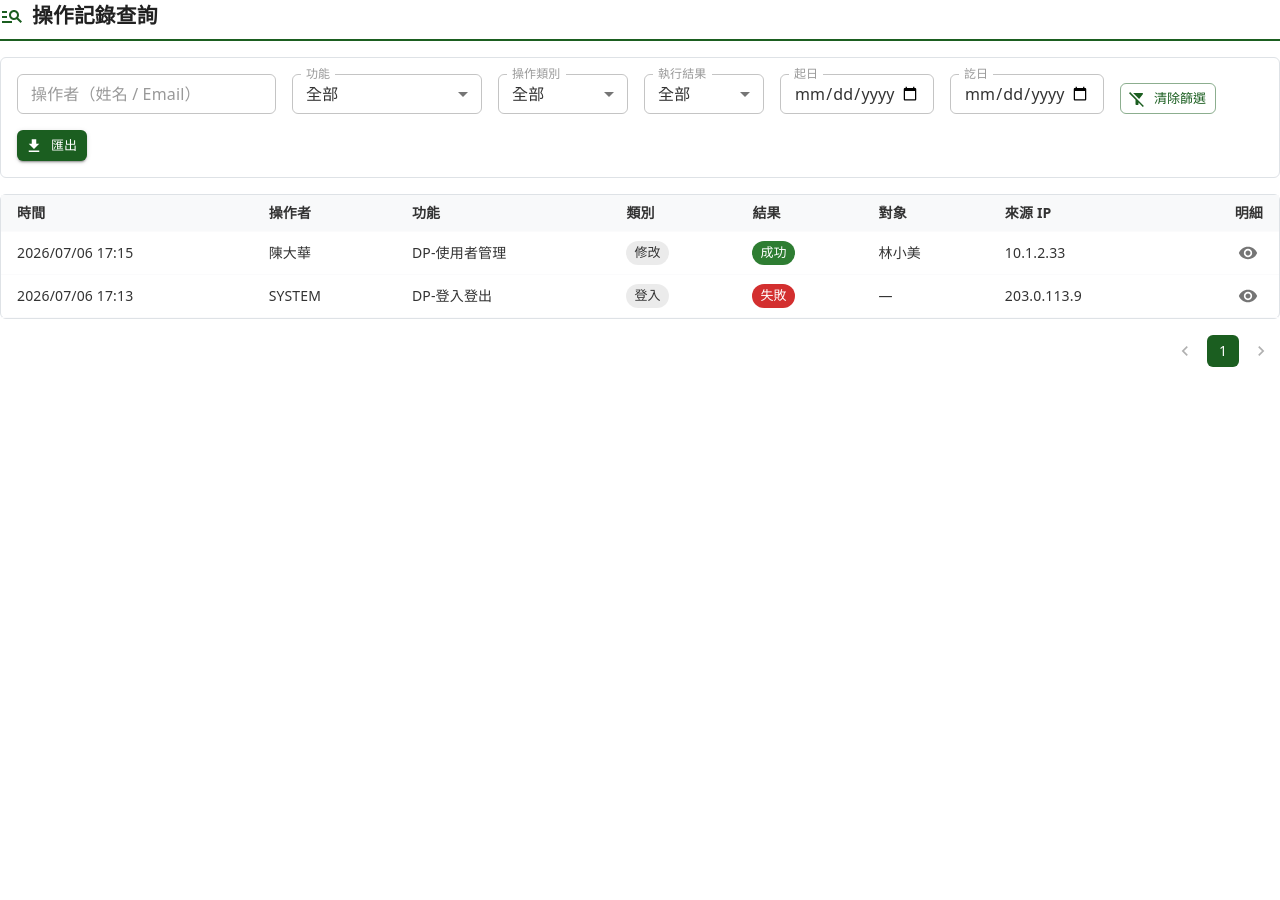
it: AuditPage 操作記錄查詢（唯讀） › 明細 modal 的操作類別 / 執行結果顯示中文
Check: the text "成功" is shown, box [760, 243, 787, 261]
Step 1. Click the button named "明細" in the row of "2026/07/06 17:15" → [1248, 253], box [1233, 238, 1263, 268]
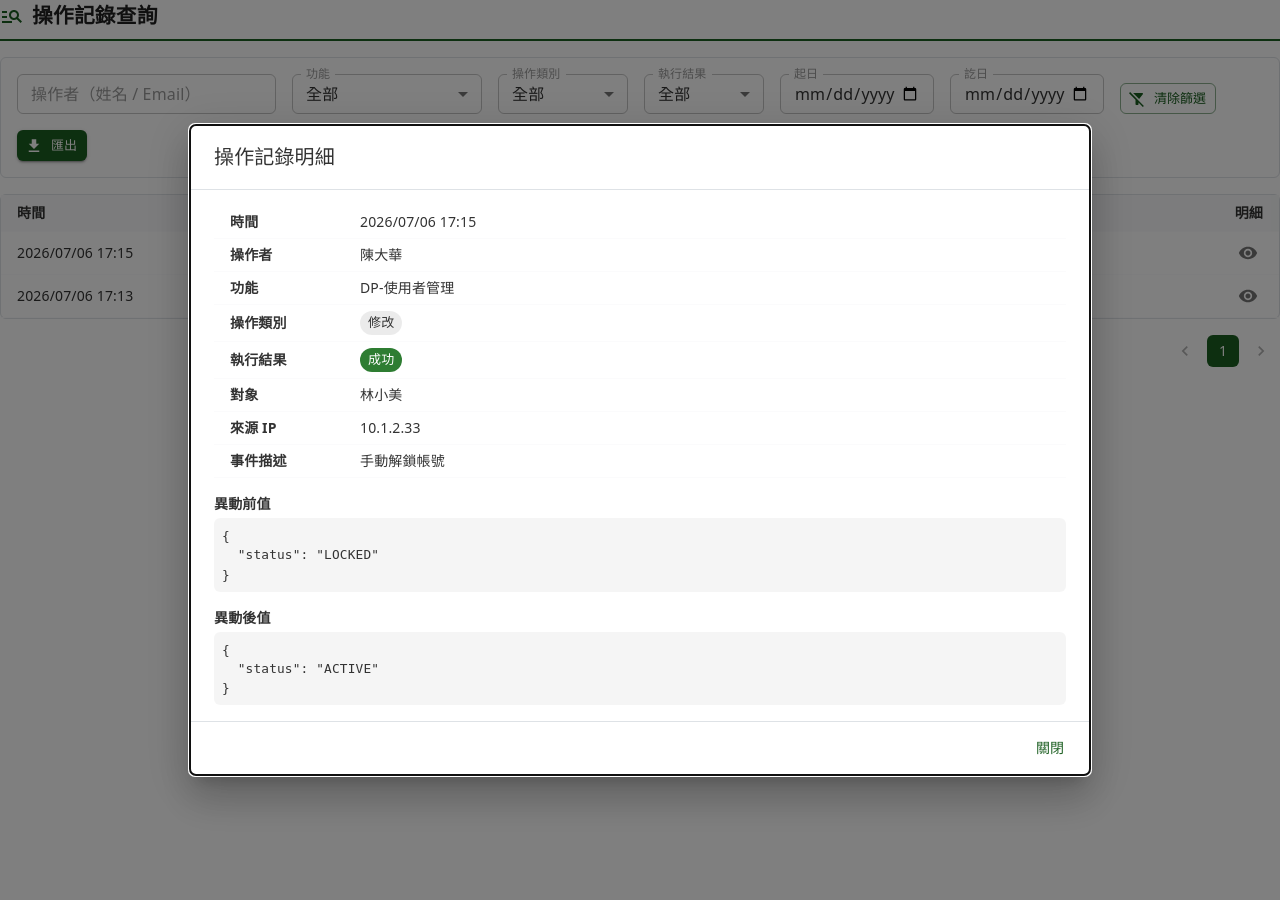
Check: the text "修改" is shown, box [368, 313, 394, 331]
Check: the text "成功" is shown, box [368, 350, 394, 368]
